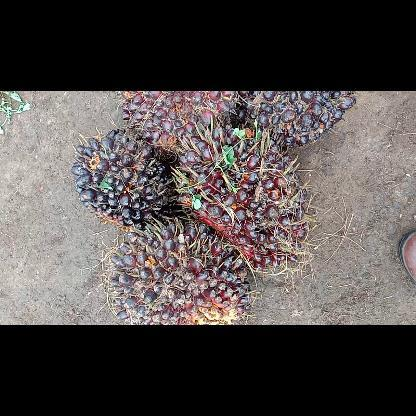TBS mentah: (172, 124, 312, 276), (104, 216, 256, 324), (68, 128, 180, 230), (116, 90, 240, 162), (236, 91, 358, 151)
